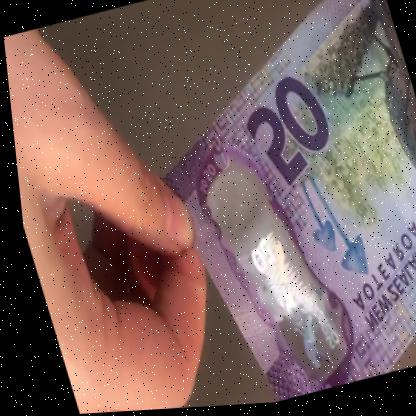50B: (216, 155, 342, 387)
